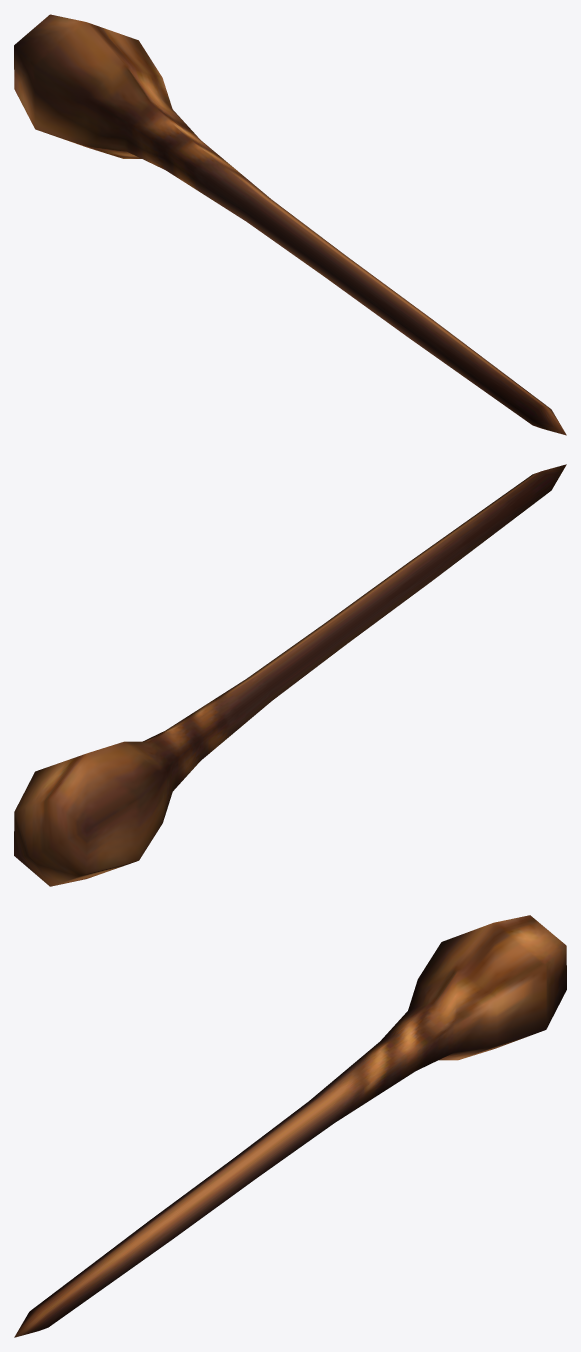
The model's file is wand.obj.
3 views of the same model, one above another, from view 1: azimuth 30°, elevation 25°; view 2: azimuth 150°, elevation 25°; view 3: azimuth 330°, elevation 25° (orthographic).
Parts seen in each view (by area): view 1: vsn_mesh_0_WAND7A_mesh_0_WAND7A; view 2: vsn_mesh_0_WAND7A_mesh_0_WAND7A; view 3: vsn_mesh_0_WAND7A_mesh_0_WAND7A.
Part boxes in pixels (x1,y1,x2,y2): vsn_mesh_0_WAND7A_mesh_0_WAND7A: (14,14,566,435); vsn_mesh_0_WAND7A_mesh_0_WAND7A: (14,464,566,886); vsn_mesh_0_WAND7A_mesh_0_WAND7A: (14,915,566,1337).
Size of the model in its own units: 0.1665 by 0.1914 by 1.47.
Materials: 1 (1 with a texture image).
